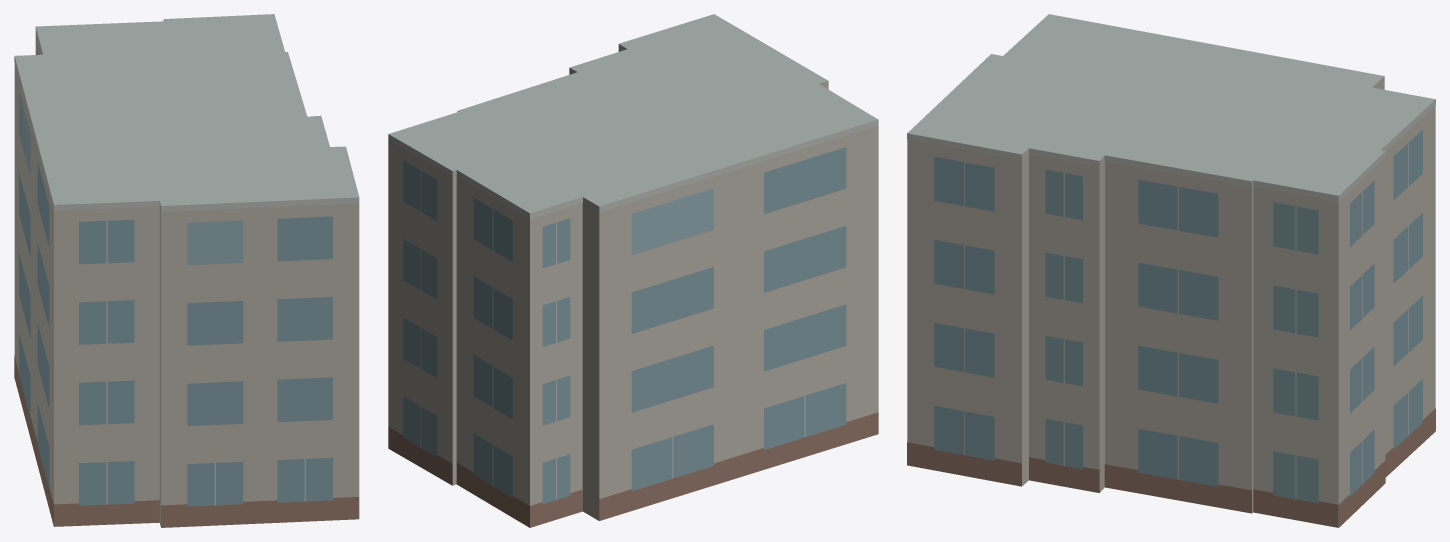
Rendered from survey-upis-32656913.glb.
3 views of the same model, side by side, from view 1: azimuth 30°, elevation 25°; view 2: azimuth 150°, elevation 25°; view 3: azimuth 270°, elevation 25° (orthographic). The views are drawn at different scales.
Visible parts, largest first — view 1: survey-upis-32656913.tmp; view 2: survey-upis-32656913.tmp; view 3: survey-upis-32656913.tmp.
Boxes of the visible parts, box(x1,y1,x2,y2) form: survey-upis-32656913.tmp: box(14, 14, 359, 527); survey-upis-32656913.tmp: box(388, 14, 878, 527); survey-upis-32656913.tmp: box(907, 14, 1435, 527).
Bounding box in the file's own units: 15.68 × 13.35 × 19.27.
